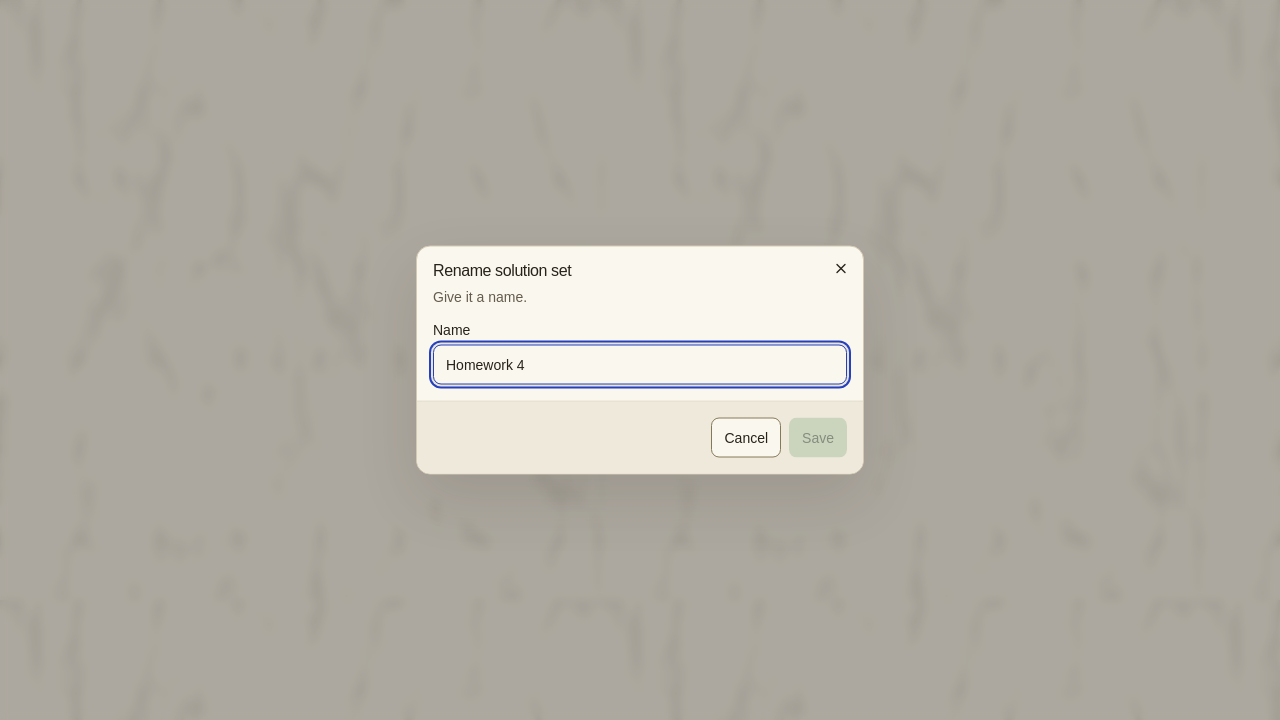
Test: RenameDialog › keeps the dialog open and shows why when the rename fails
The image size is (1280, 720).
Replace the text in the field labelled "Name" with "Taken" at (640, 364), box [433,344,847,384]
Then press Enter
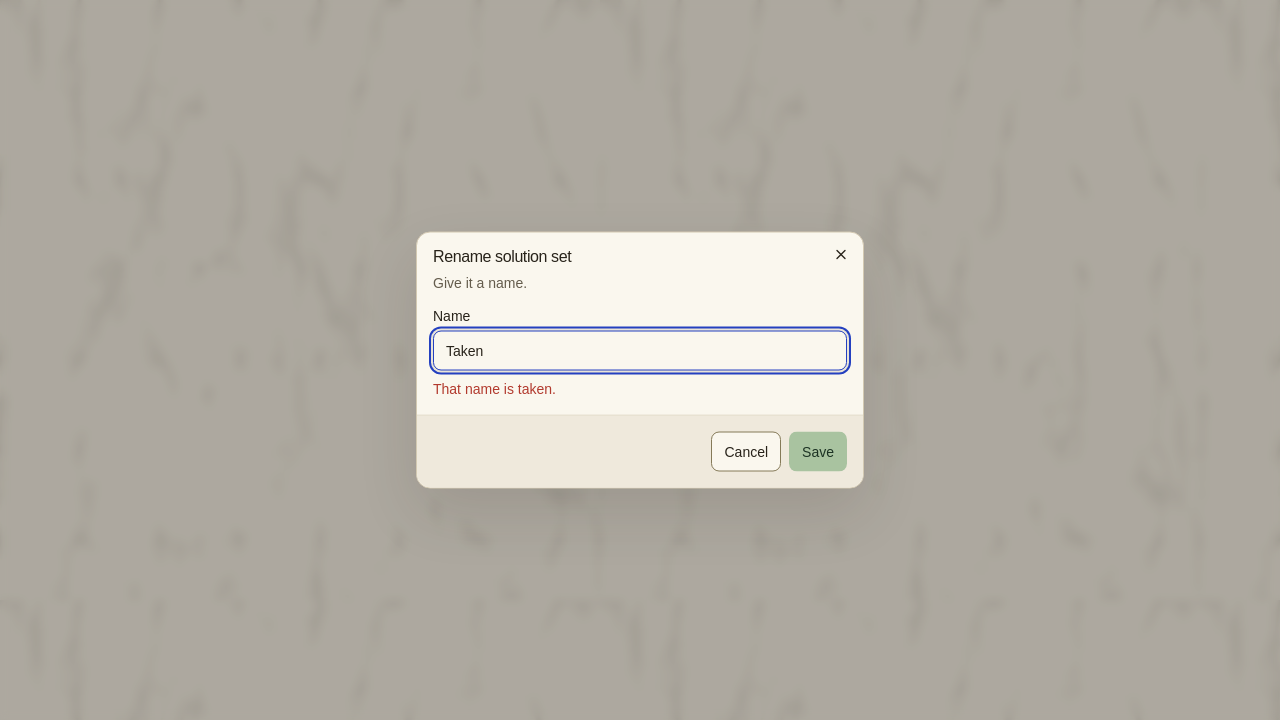
expect the message reads "That name is taken.": met, box [433,380,556,396]
